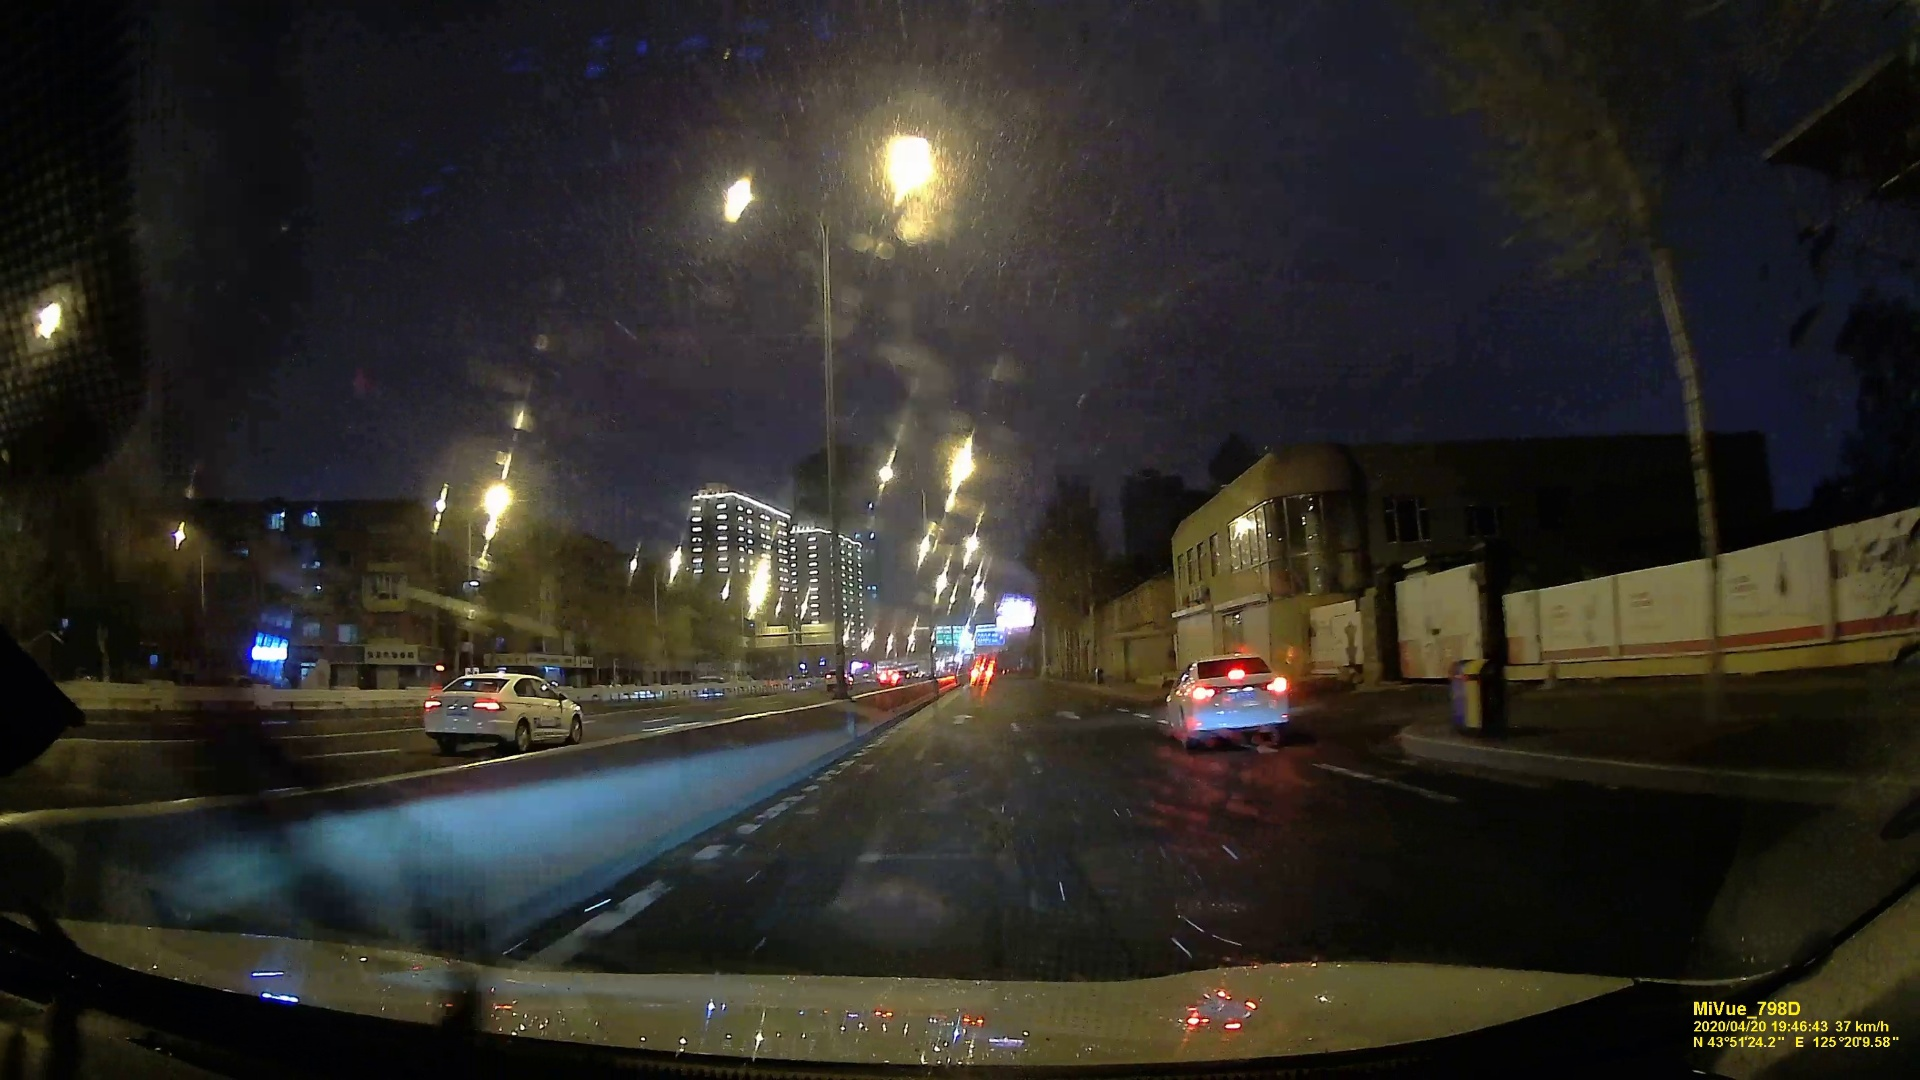traffic_sign: (934, 625, 968, 646), (975, 625, 1004, 644)
vehicle: (421, 669, 585, 752), (1167, 653, 1290, 746)
